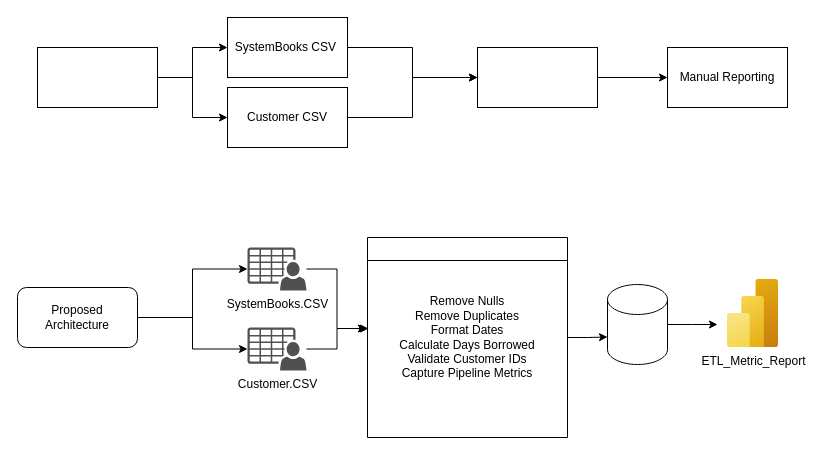
Image size: 822x455. Some labels were removed from this diagram. The box of each missing label's shape, as (x1, y1, x2, y2) in pixels:
As-Is Architecture: (36, 46, 158, 108)
Manual Cleaning: (476, 46, 598, 108)
Python ETL: (366, 236, 568, 438)
Store in SQL: (606, 284, 668, 364)
